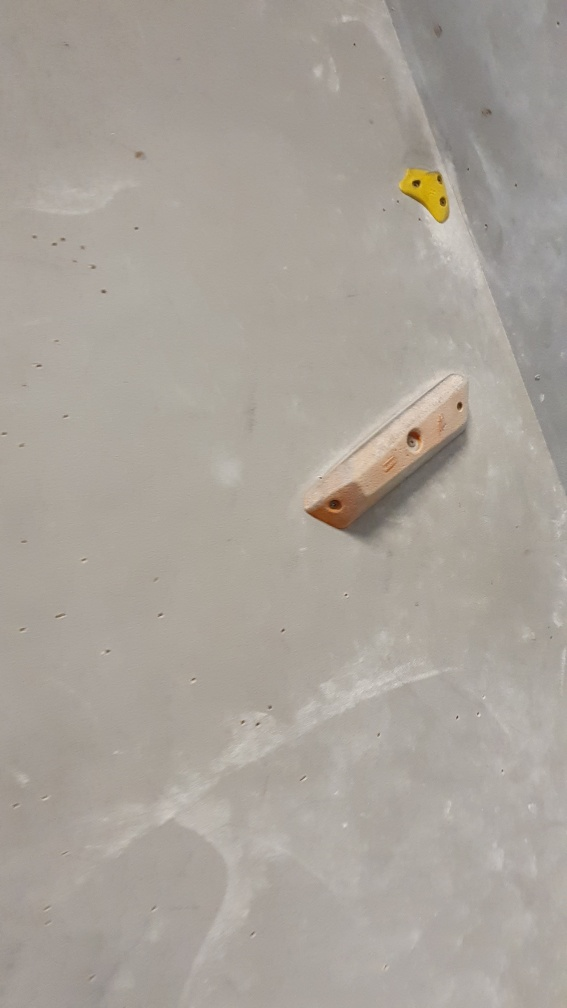Pinch: (299, 368, 474, 540)
